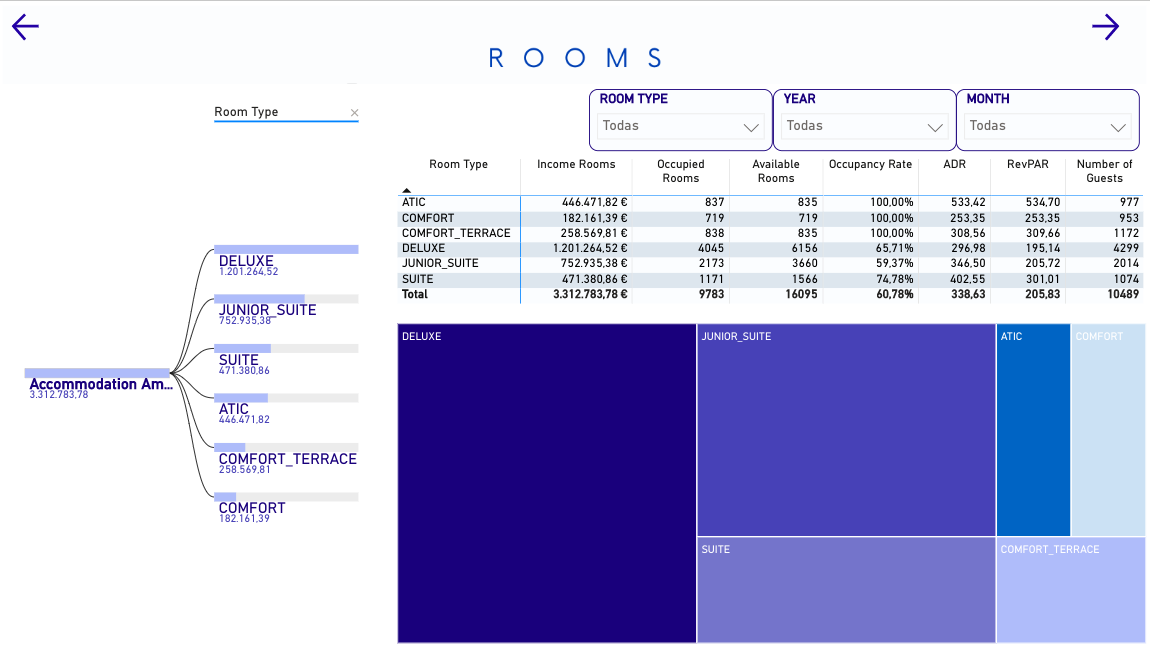

What the dashboard file says about the page in this screenshot:
{"tool":"powerbi","page":{"name":"Rooms","canvas":[1280,720],"ordinal":3},"visuals":[{"type":"decompositionTreeVisual","fields":{"ExplainBy":["rooms.room_type_name"],"Analyze":["Sum(reservations.accommodation_amount)"]},"box":[0,97.3,438.7,621.3],"z":0},{"type":"image","box":[0,0,1280,96.9],"z":1000},{"type":"actionButton","box":[1208.6,8.9,71.4,39.5],"z":2000},{"type":"actionButton","box":[11.5,8.9,49.7,39.5],"z":3000},{"type":"pivotTable","fields":{"Values":["occupancy (2).income_rooms","occupancy.Occupied Rooms","reservations.available_rooms","occupancy.Occupancy Rate","occupancy (2).ADR","reservations.RevPAR","Sum(reservations.adult)"],"Rows":["rooms.room_type_name"]},"box":[438.7,169.3,841.3,184],"z":4000},{"type":"slicer","fields":{"Values":["calendar.year"]},"box":[860,97.3,204,69.3],"z":5000},{"type":"slicer","fields":{"Values":["calendar.month_name"]},"box":[1064,97.3,204,69.3],"z":6000},{"type":"slicer","fields":{"Values":["rooms.room_type_name"]},"box":[656,97.3,204,69.3],"z":7000},{"type":"treemap","fields":{"Group":["rooms.room_type_name"],"Values":["rooms.Qty Rooms Per Type"]},"box":[439,353,841,365],"z":8000}]}

Visuals, with their boxes in screenshot pixels (x1, y1, x2, y2), scaled from the page's 1280x720 canvas onto the 1150x648 screenshot:
decompositionTreeVisual - rooms.room_type_name x Sum(reservations.accommodation_amount): bbox=[0, 88, 394, 647]
image: bbox=[0, 0, 1149, 87]
actionButton: bbox=[1086, 8, 1149, 44]
actionButton: bbox=[10, 8, 55, 44]
pivotTable - occupancy (2).income_rooms x occupancy.Occupied Rooms: bbox=[394, 152, 1149, 318]
slicer - calendar.year: bbox=[773, 88, 956, 150]
slicer - calendar.month_name: bbox=[956, 88, 1139, 150]
slicer - rooms.room_type_name: bbox=[589, 88, 773, 150]
treemap - rooms.room_type_name x rooms.Qty Rooms Per Type: bbox=[394, 318, 1149, 646]
